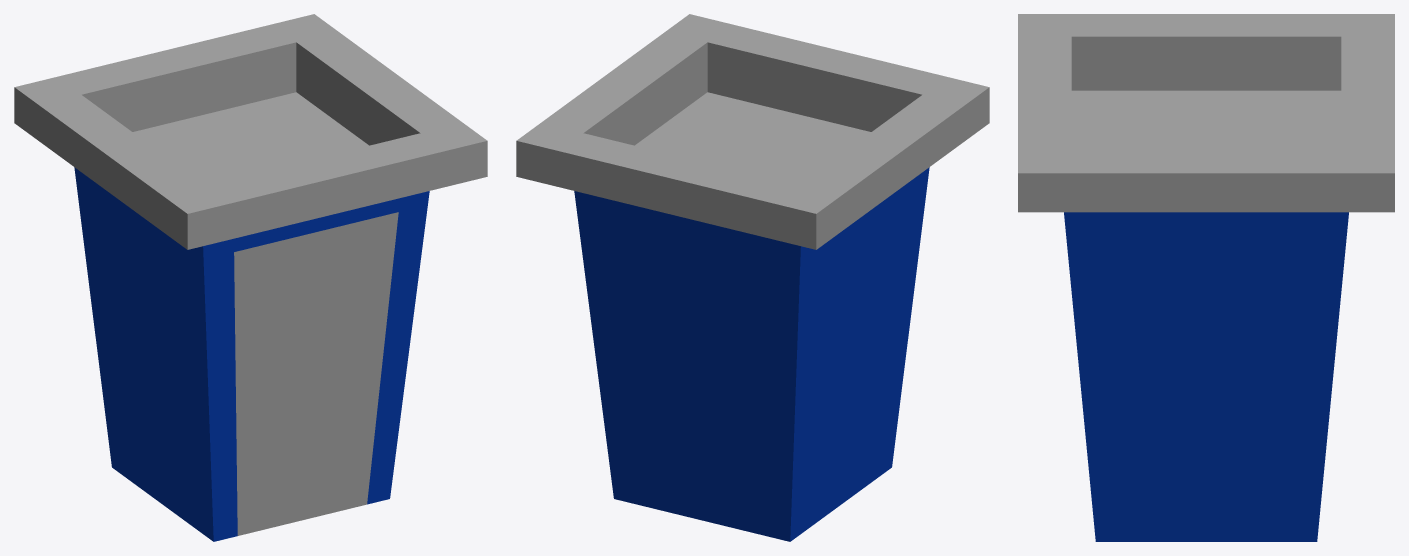
File: LixeiraPapel.fbx
3 renders of one model, left to right at view 1: azimuth 30°, elevation 25°; view 2: azimuth 150°, elevation 25°; view 3: azimuth 270°, elevation 25°, orthographic. The views are drawn at different scales.
Parts seen in each view (by area): view 1: lixeira_plastico; view 2: lixeira_plastico; view 3: lixeira_plastico.
Boxes of the visible parts, left/top/right/bottom form: lixeira_plastico: left=14, top=14, right=487, bottom=541; lixeira_plastico: left=516, top=14, right=989, bottom=541; lixeira_plastico: left=1018, top=14, right=1394, bottom=541.
Bounding box in the file's own units: 11.51 × 13.54 × 11.51.
